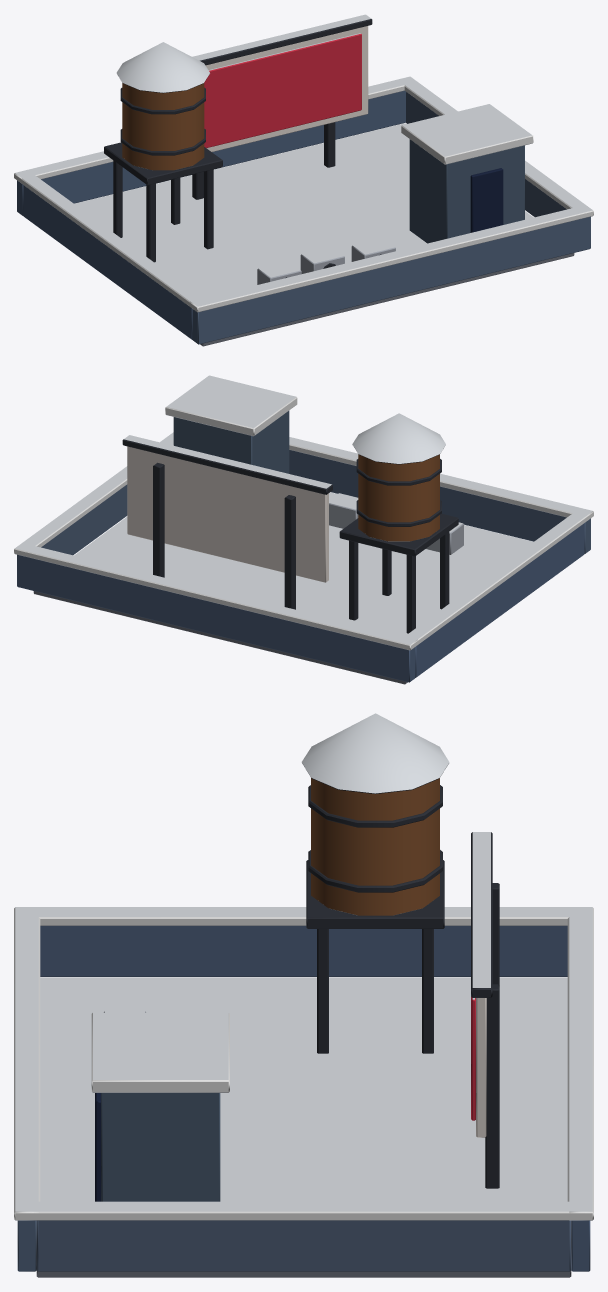
File: Apartment_Tower_Roof.glb
The picture shows the model from 3 angles, top to bottom: view 1: azimuth 30°, elevation 25°; view 2: azimuth 150°, elevation 25°; view 3: azimuth 270°, elevation 25°; orthographic projection. The views are drawn at different scales.
Parts seen in each view (by area): view 1: Apartment_Tower_Roof; view 2: Apartment_Tower_Roof; view 3: Apartment_Tower_Roof.
Boxes of the visible parts, left/top/right/bottom form: Apartment_Tower_Roof: left=14, top=14, right=593, bottom=346; Apartment_Tower_Roof: left=14, top=375, right=593, bottom=684; Apartment_Tower_Roof: left=14, top=713, right=593, bottom=1277.
Size of the model in its own units: 30.3 by 15.3 by 24.3.
